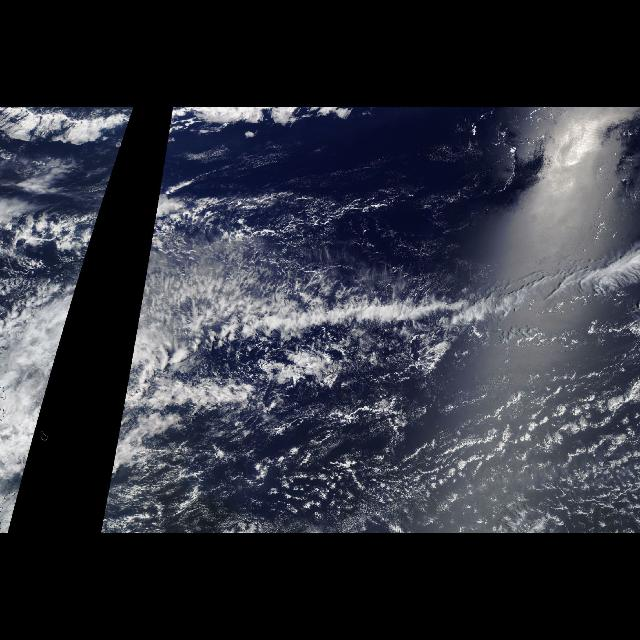Fish: (125, 260, 640, 398), (27, 260, 84, 398)
Gravel: (324, 376, 640, 534), (158, 252, 386, 392)
Sugar: (200, 412, 640, 532)
